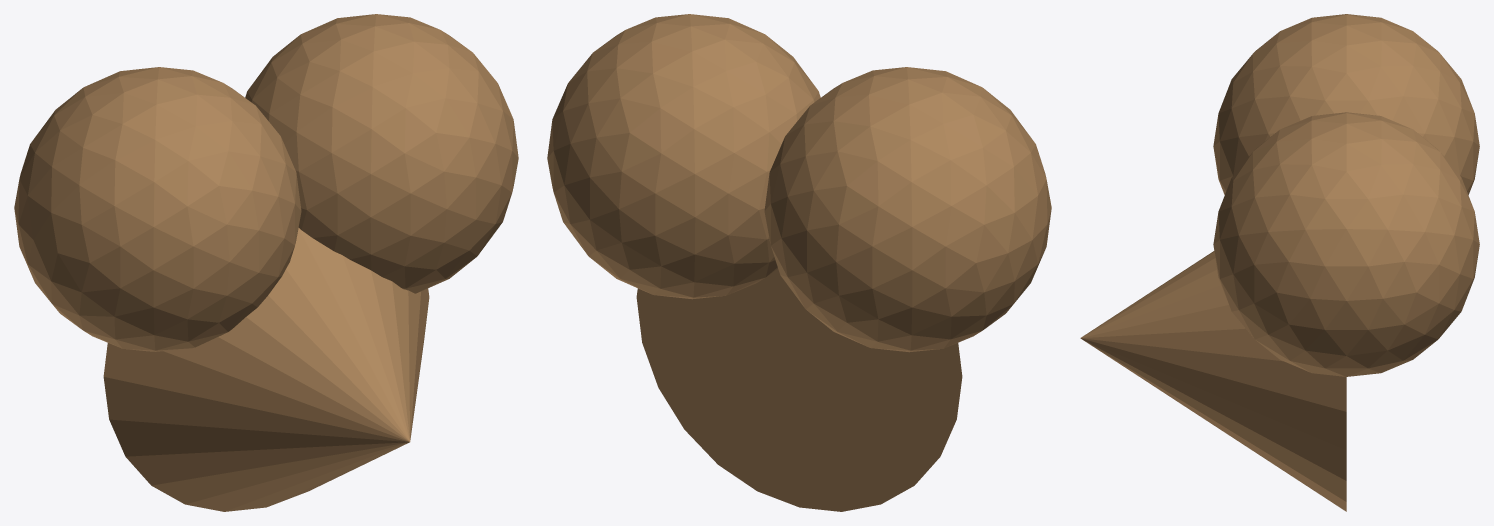
The model's file is love_008.glb.
The picture shows the model from 3 angles, left to right: view 1: azimuth 30°, elevation 25°; view 2: azimuth 150°, elevation 25°; view 3: azimuth 270°, elevation 25°; orthographic projection. The views are drawn at different scales.
Parts seen in each view (by area): view 1: world; view 2: world; view 3: world.
Boxes of the visible parts, bbox=[...] form: world: bbox=[14, 14, 518, 511]; world: bbox=[547, 14, 1051, 511]; world: bbox=[1080, 14, 1479, 511].
Size of the model in its own units: 2.06 by 1.92 by 1.65.
